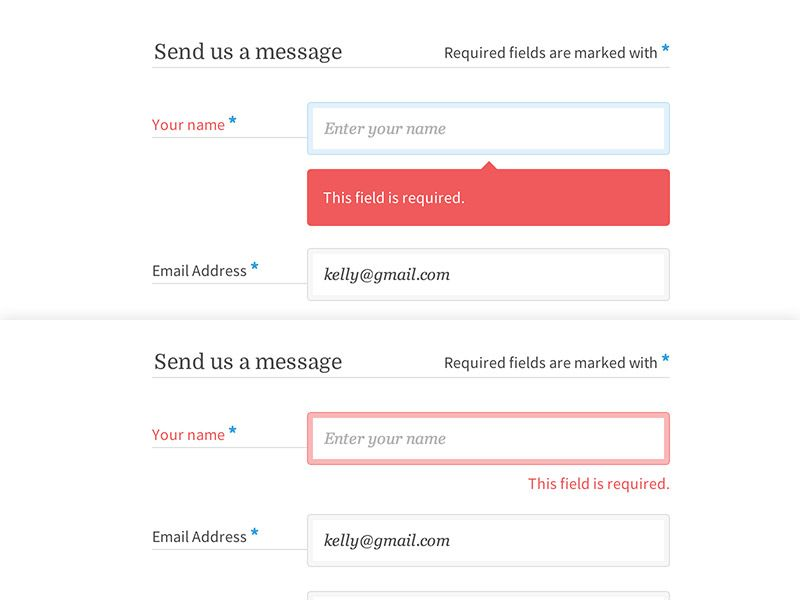error_field: (306, 412, 672, 465)
error_message: (527, 471, 672, 493), (322, 187, 467, 206), (152, 424, 227, 442), (148, 117, 226, 132)
